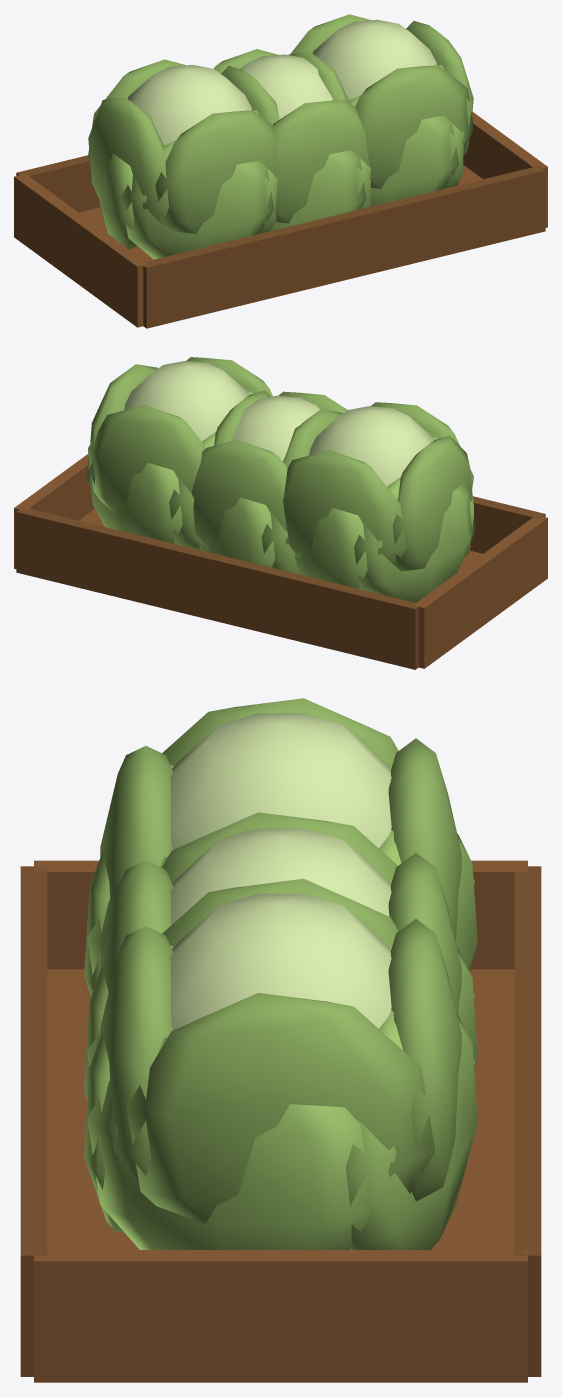
Rendered from Veg_Cabbage.fbx.
3 renders of one model, top to bottom at view 1: azimuth 30°, elevation 25°; view 2: azimuth 150°, elevation 25°; view 3: azimuth 270°, elevation 25°, orthographic. The views are drawn at different scales.
Visible parts, largest first — view 1: Veg_Cabbage__Stack, Veg_Cabbage; view 2: Veg_Cabbage__Stack, Veg_Cabbage; view 3: Veg_Cabbage__Stack, Veg_Cabbage.
Boxes of the visible parts, bbox=[...] form: Veg_Cabbage__Stack: bbox=[14, 14, 547, 328]; Veg_Cabbage: bbox=[213, 49, 371, 231]; Veg_Cabbage__Stack: bbox=[14, 357, 547, 669]; Veg_Cabbage: bbox=[191, 391, 347, 573]; Veg_Cabbage__Stack: bbox=[20, 698, 541, 1382]; Veg_Cabbage: bbox=[84, 828, 477, 1099].
Size of the model in its own units: 0.283 by 0.1212 by 0.1555.
